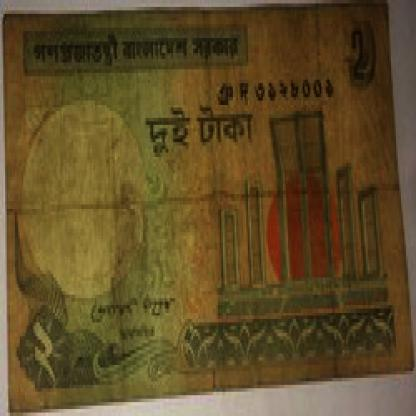two taka: (25, 309, 57, 398), (341, 24, 373, 94)
